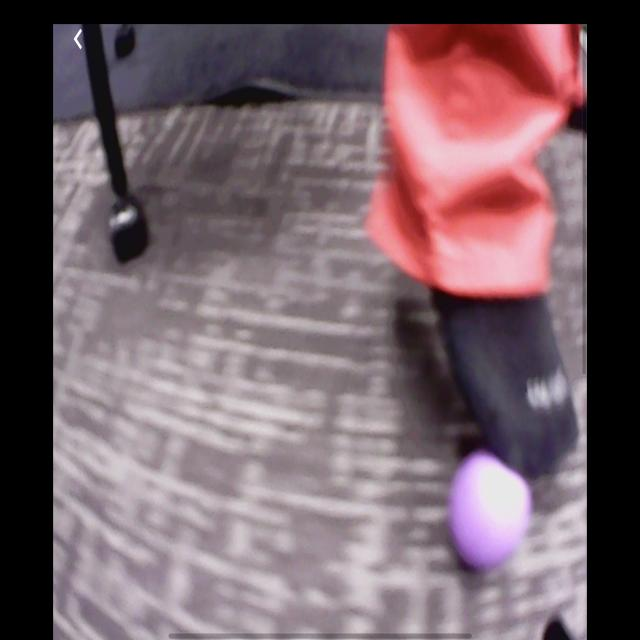ball: (450, 449, 534, 570)
